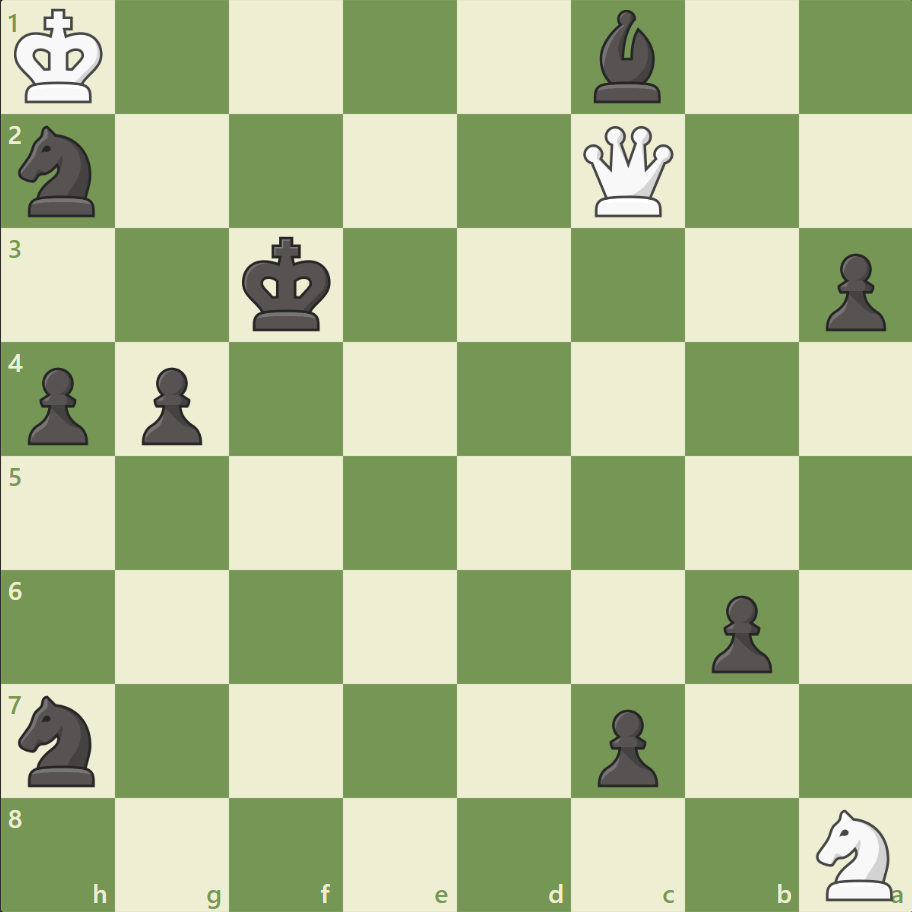K: (11, 4, 111, 112)
N: (806, 802, 903, 904)
Q: (578, 122, 677, 222)
b: (585, 6, 669, 109)
k: (238, 231, 338, 339)
n: (11, 688, 108, 791), (11, 121, 108, 223)
p: (701, 586, 776, 677), (133, 359, 208, 450), (20, 359, 95, 450), (588, 700, 662, 791), (815, 246, 889, 337)
